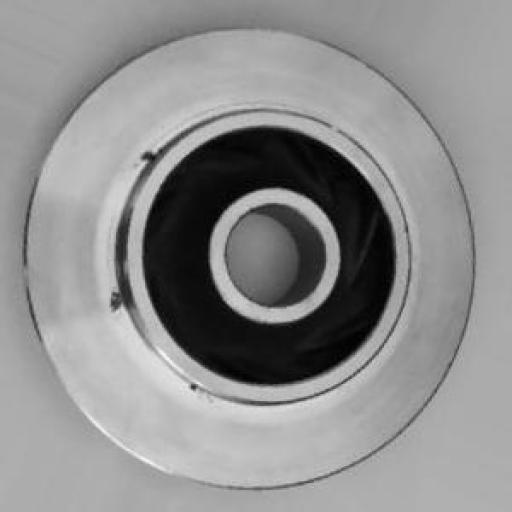defect: (98, 114, 210, 424)
